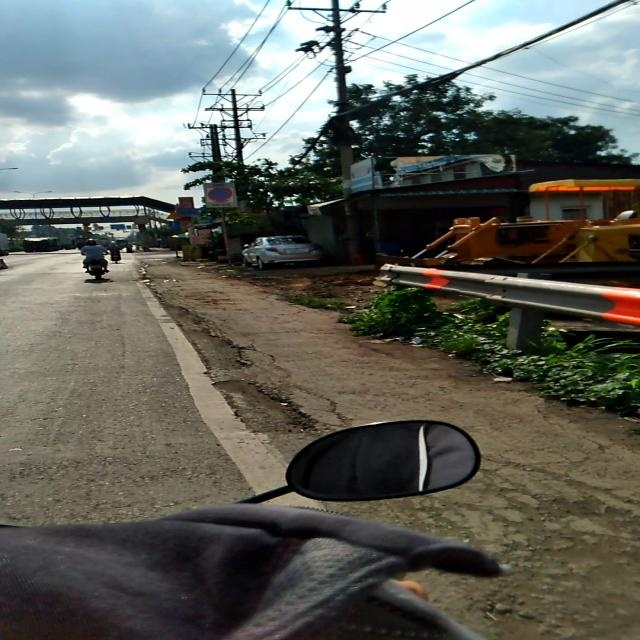bien_cam: (207, 188, 233, 202)
